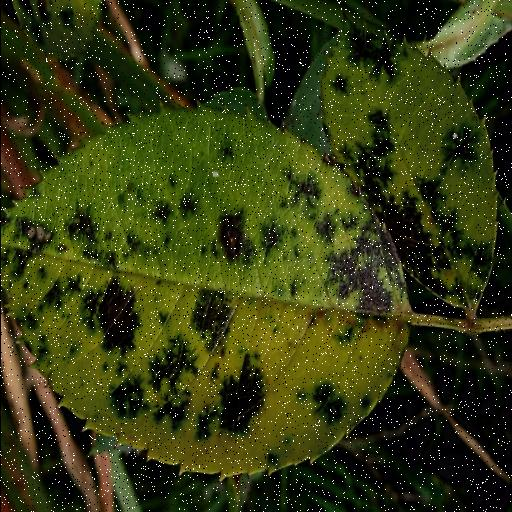downy_mildew: (1, 107, 408, 474), (321, 24, 495, 311), (416, 0, 511, 66), (13, 0, 100, 56), (230, 0, 273, 101)
